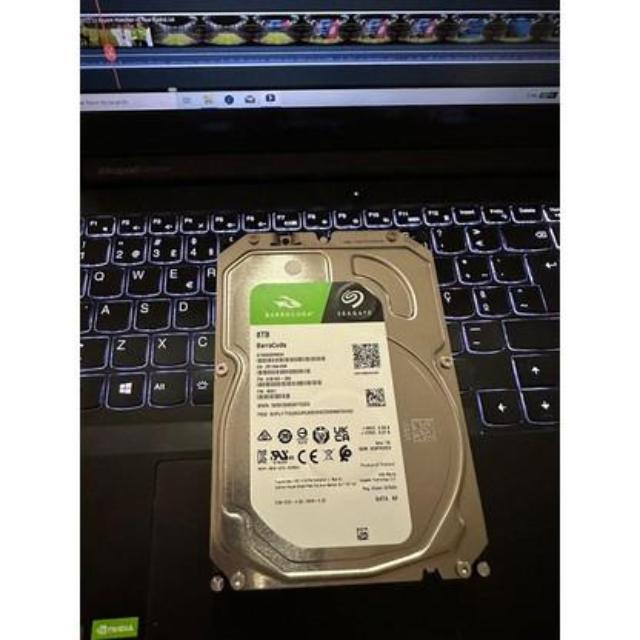DISK: (210, 230, 487, 590)
